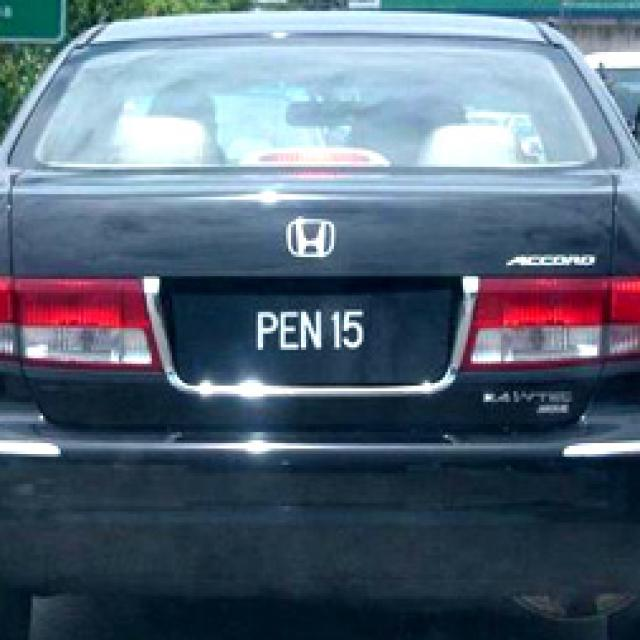license_plate: (167, 276, 455, 386)
